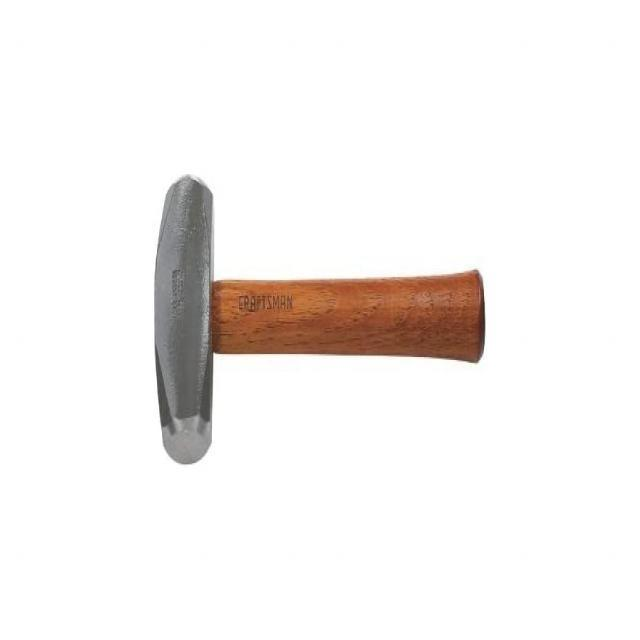hammer: (148, 164, 490, 472)
